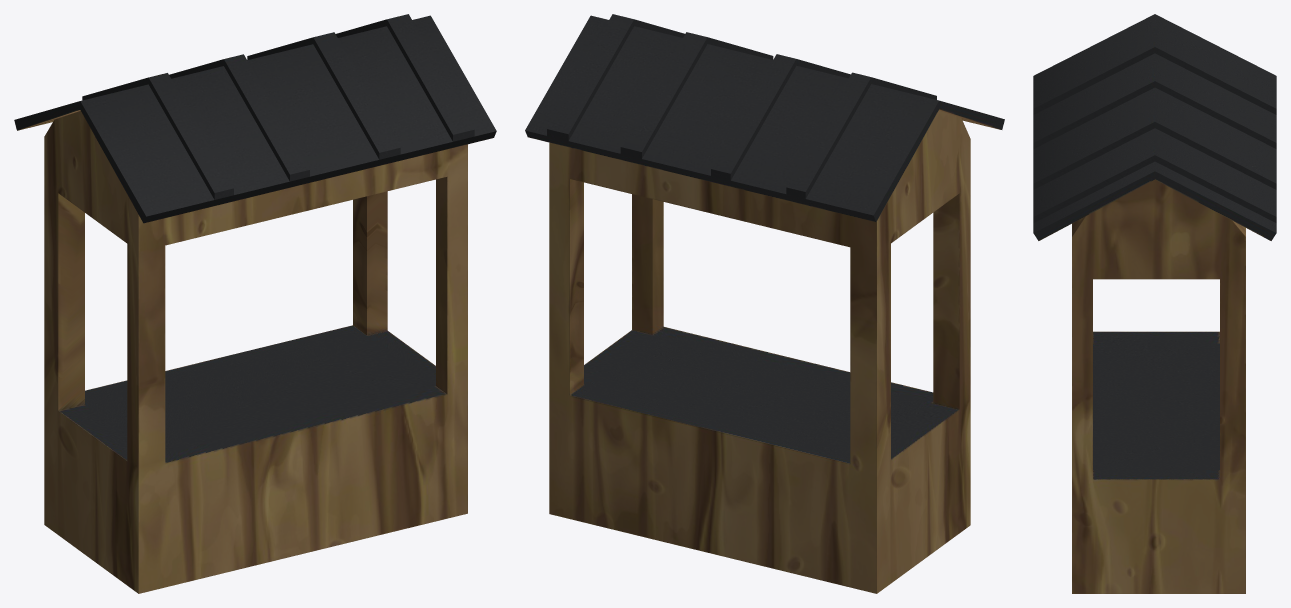
Rendered from shop.fbx.
The picture shows the model from 3 angles, left to right: view 1: azimuth 30°, elevation 25°; view 2: azimuth 150°, elevation 25°; view 3: azimuth 270°, elevation 25°; orthographic projection. The views are drawn at different scales.
Visible parts, largest first — view 1: Box193; view 2: Box193; view 3: Box193.
Boxes of the visible parts, x1=… form: Box193: x1=14, y1=14, x2=496, y2=593; Box193: x1=525, y1=14, x2=1004, y2=593; Box193: x1=1033, y1=14, x2=1276, y2=593.
Bounding box in the file's own units: 7.51 × 9.63 × 4.9.
